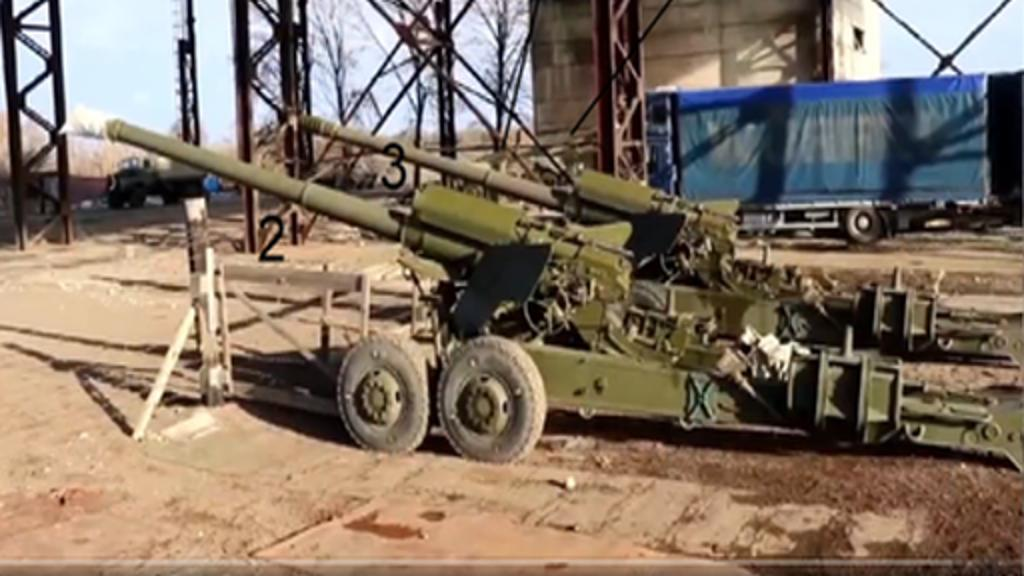ART: (106, 116, 1010, 476)
